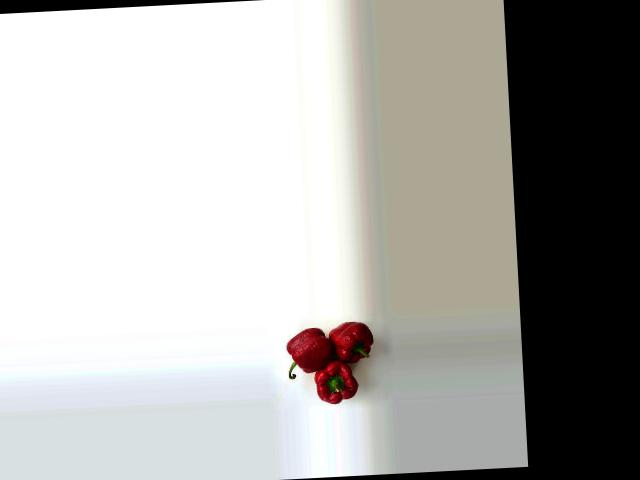bell_pepper: (275, 324, 331, 382)
